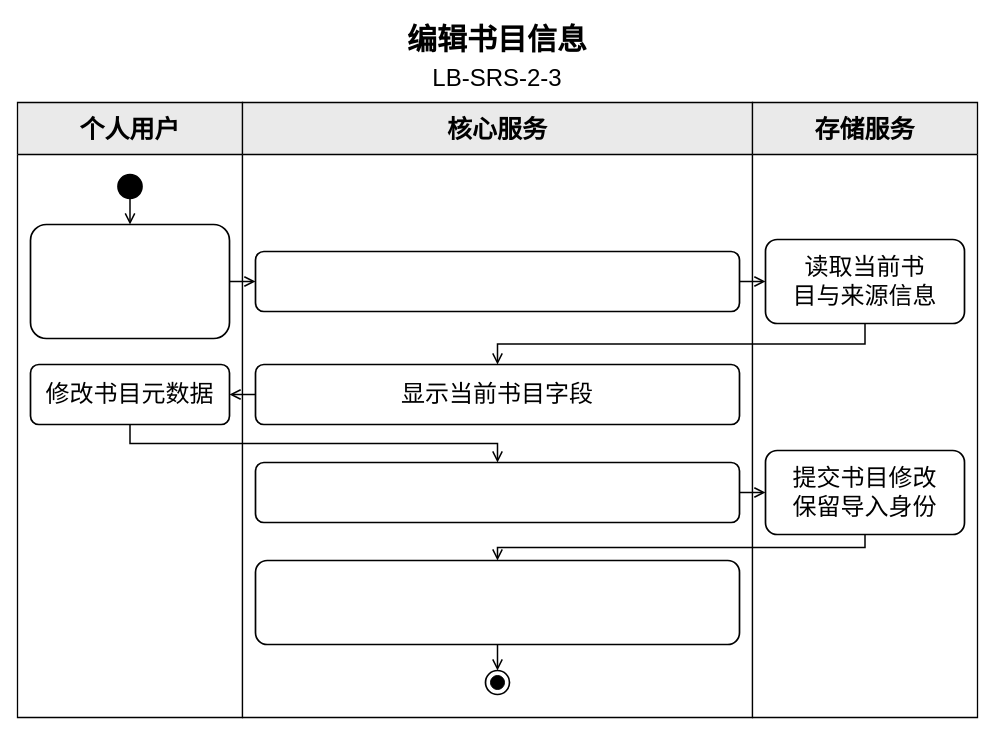
Image size: 996x735. Some labels were removed from this diagram. Here are the shapes that lost their labels. From the top down, the centre of each, then its label:
pixel 129 281: 打开已入库文献 选择编辑 书目信息
pixel 497 281: 接收访问请求
pixel 497 492: 校验允许修改的字段
pixel 497 602: 同步知识库、表格 与引用处的属性
